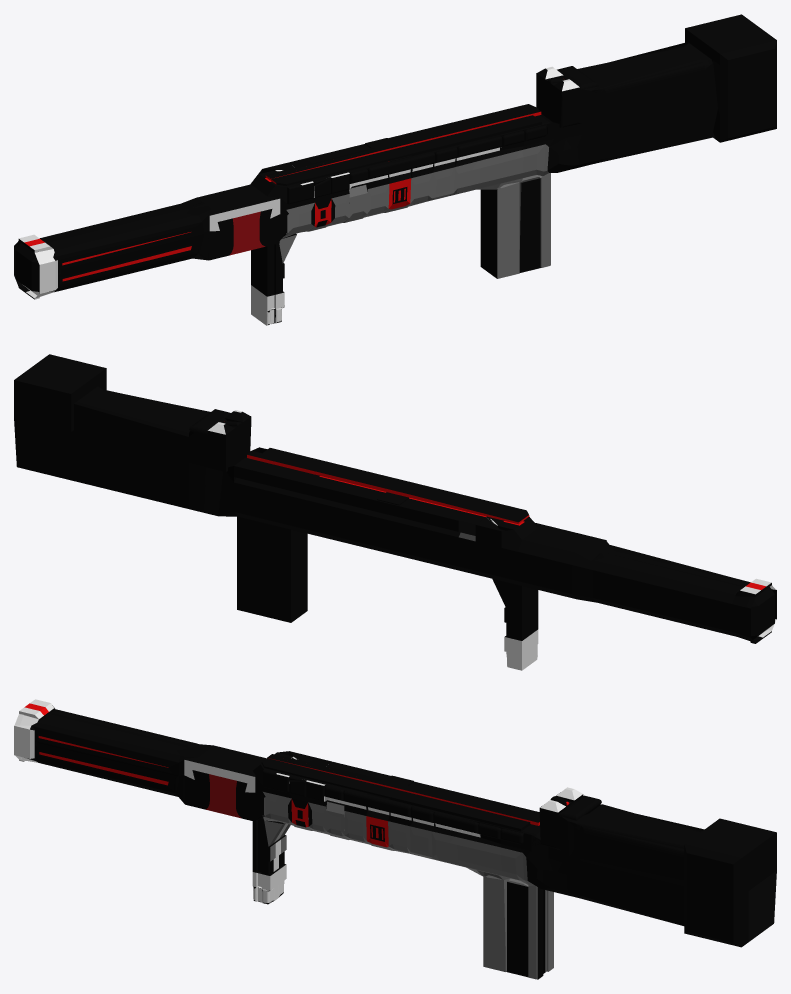
The model's file is broń nr 3.fbx.
3 renders of one model, top to bottom at view 1: azimuth 30°, elevation 25°; view 2: azimuth 150°, elevation 25°; view 3: azimuth 330°, elevation 25°, orthographic.
Parts seen in each view (by area): view 1: Cube; view 2: Cube; view 3: Cube.
Part boxes in pixels (x1,y1,x2,y2): Cube: [14, 14, 776, 325]; Cube: [14, 354, 776, 670]; Cube: [14, 699, 776, 979].
Bounding box in the file's own units: 2473 × 585 × 222.
